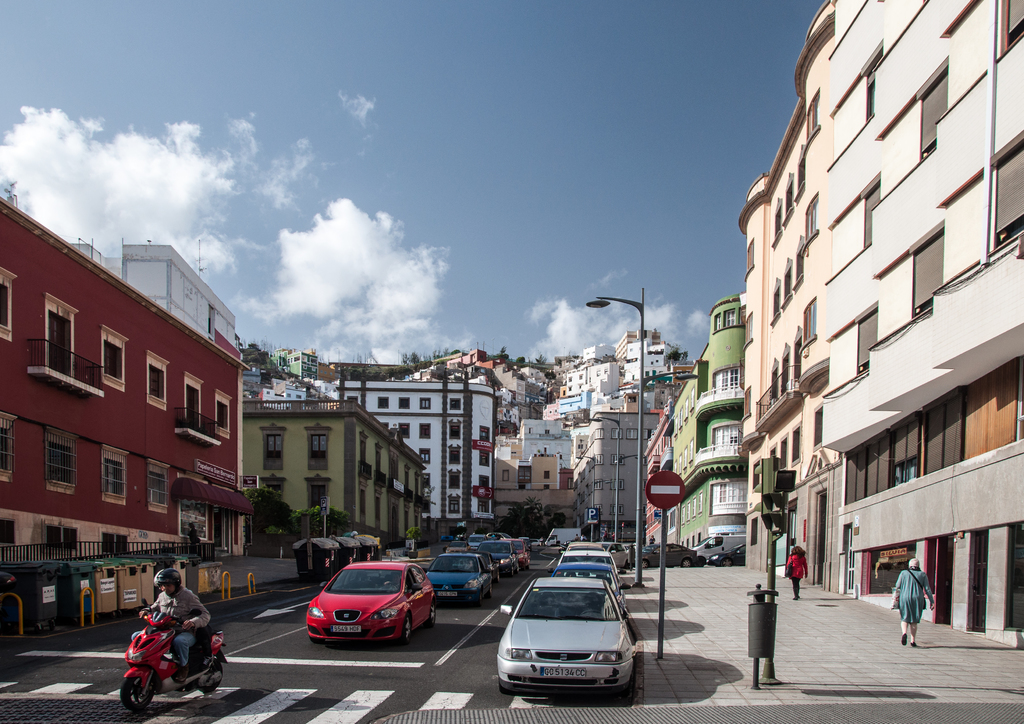mobil: (494, 578, 638, 690), (303, 556, 446, 654)
motor: (116, 595, 247, 713)
